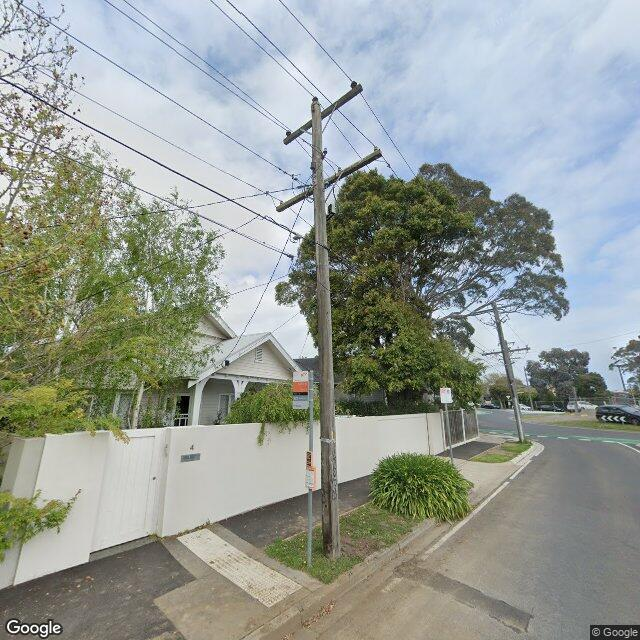HV-transmission: (283, 80, 364, 145)
crossarm: (265, 145, 383, 213), (284, 85, 364, 144), (482, 344, 530, 359), (476, 302, 516, 316)
timber-pole: (311, 103, 341, 557), (492, 302, 524, 443)
